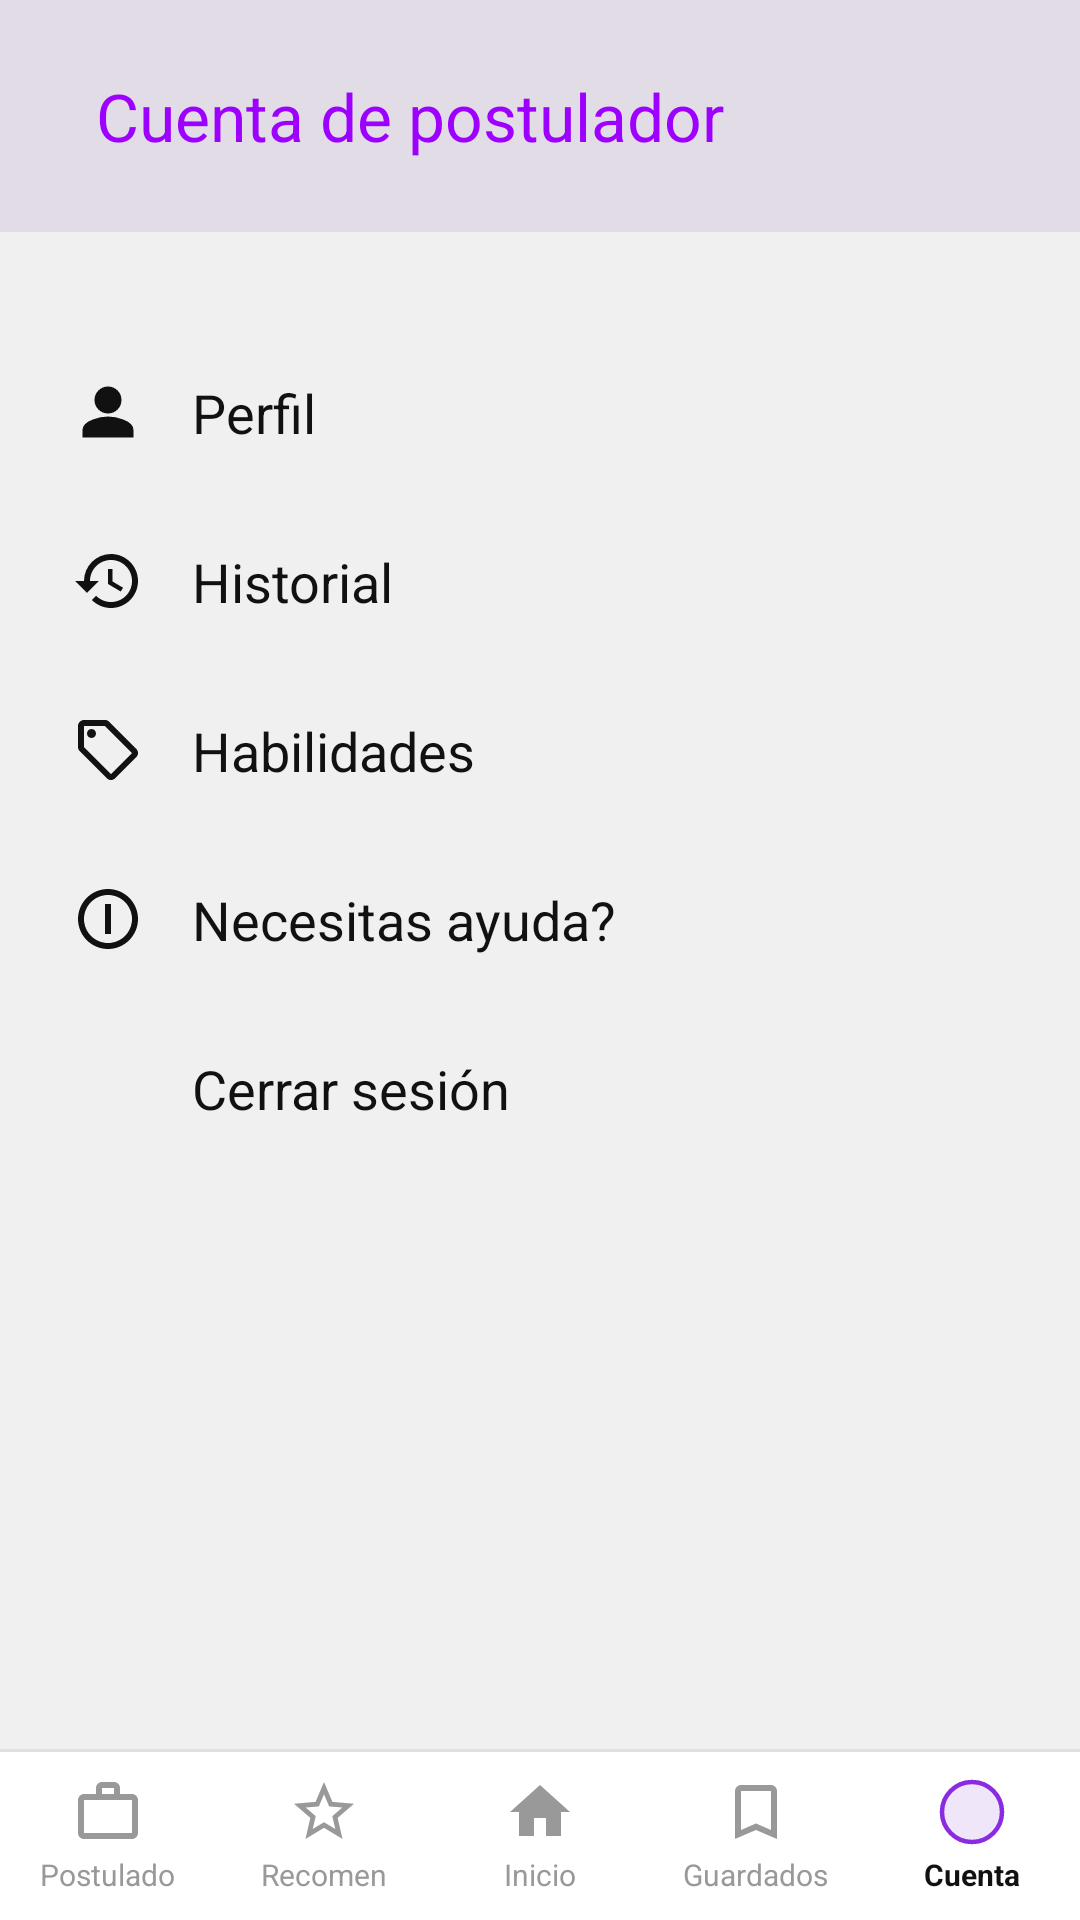

Screen size 1080 x 1920. Icon name, then its center in pixels as (x,y):
history: (106,581)
info: (108,919)
profile: (108,412)
tag: (108,750)
